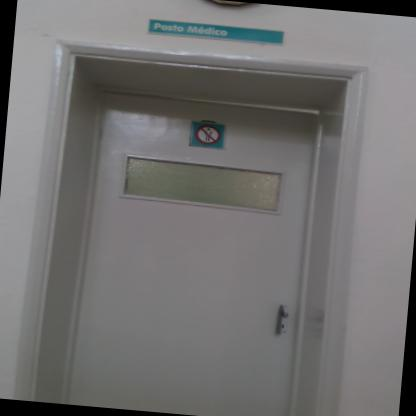closed: (11, 35, 399, 415)
